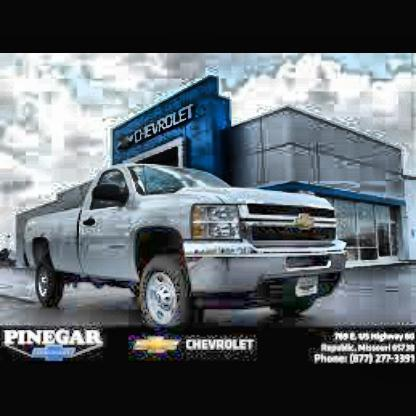Chevrolet Silverado 2500HD Regular Cab 2012: (22, 160, 352, 336)
